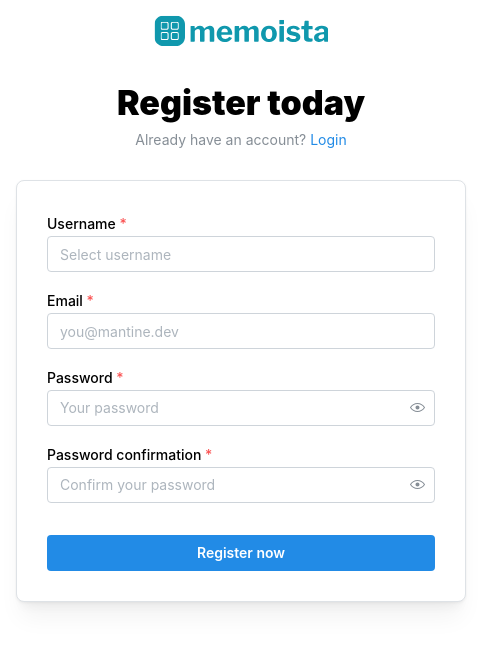
Test: RegisterForm › should display validation errors on username field
In the field labelled "Username *": (241, 254) [47, 236, 435, 272], type "t"
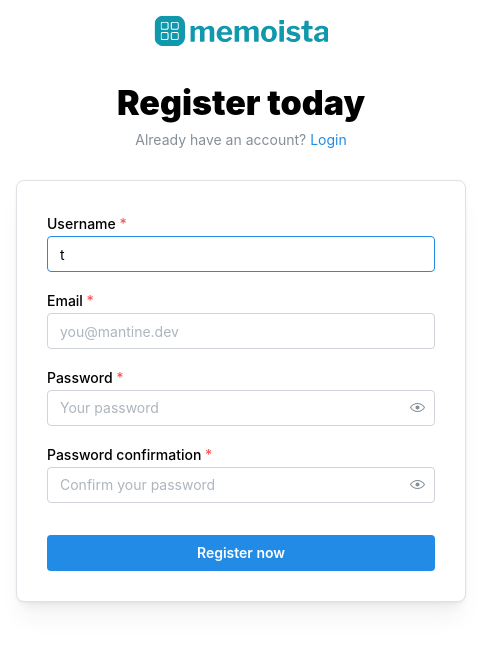
Press Tab
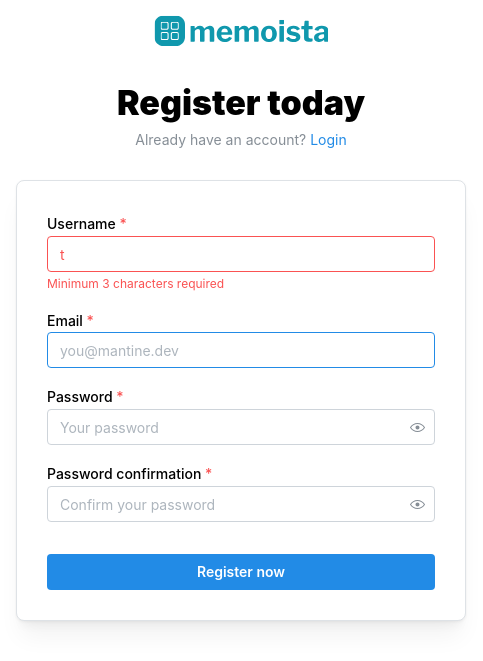
Expected: the text "Minimum 3 characters required" is shown, [47, 276, 224, 291]
Clear the field labelled "Username *": (241, 254) [47, 236, 435, 272]
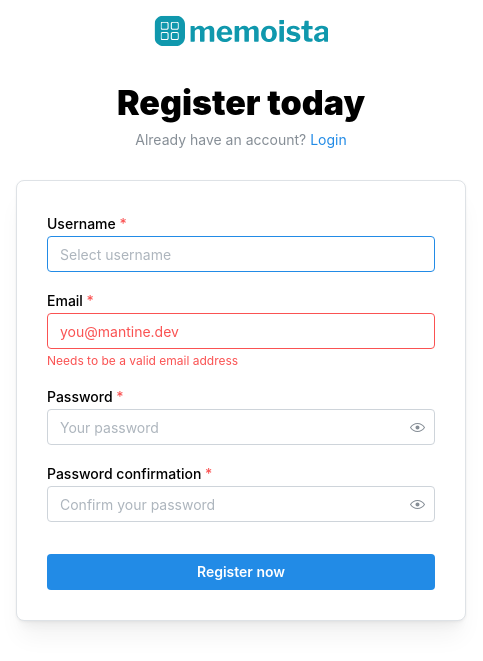
Press Tab
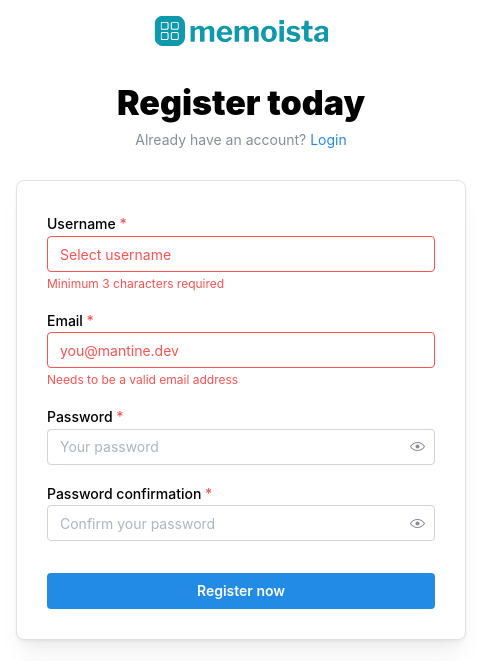
Expected: the text "Minimum 3 characters required" is shown, [47, 276, 224, 291]
